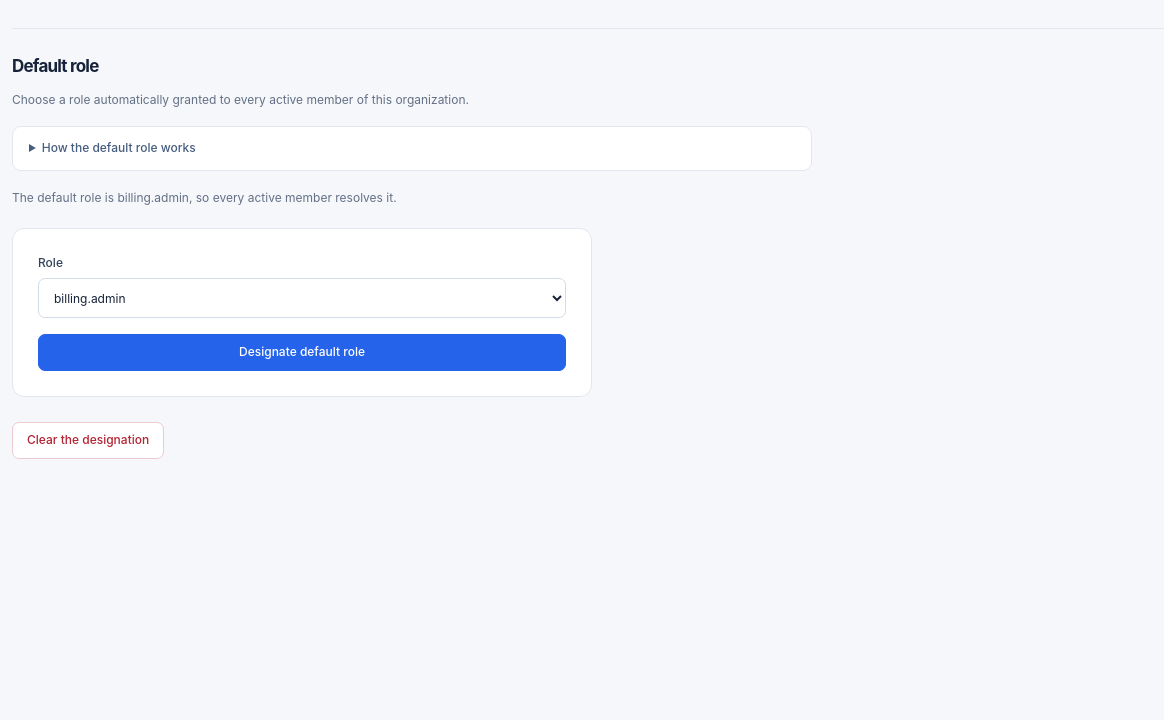
Test case: the default role of one organization › clears the designation only after an explicit confirm, and says nothing is deleted
This screenshot has width=1164, height=720.
Click the button "Clear the designation".
click(88, 441)  # box [12,422,164,459]
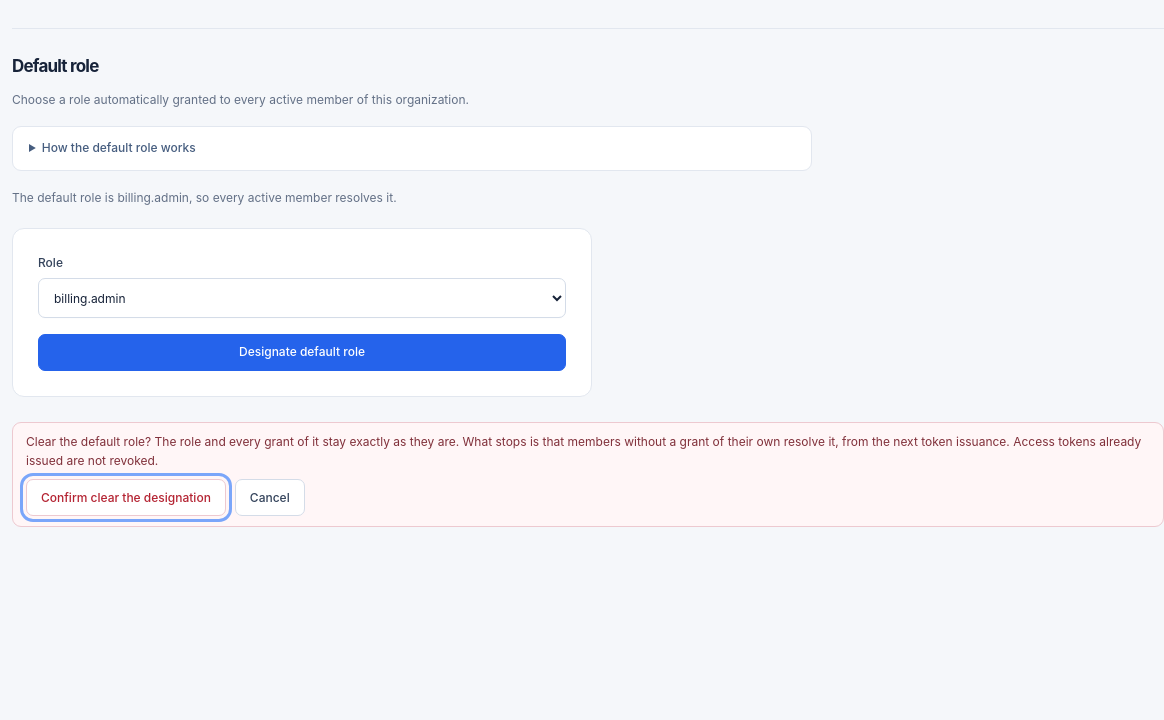
Expected: the text "The role and every grant of it stay exactly as they are" is shown, [26,434,1141,468]
Click the button "Confirm clear the designation".
click(126, 498)  # box [26,480,226,516]
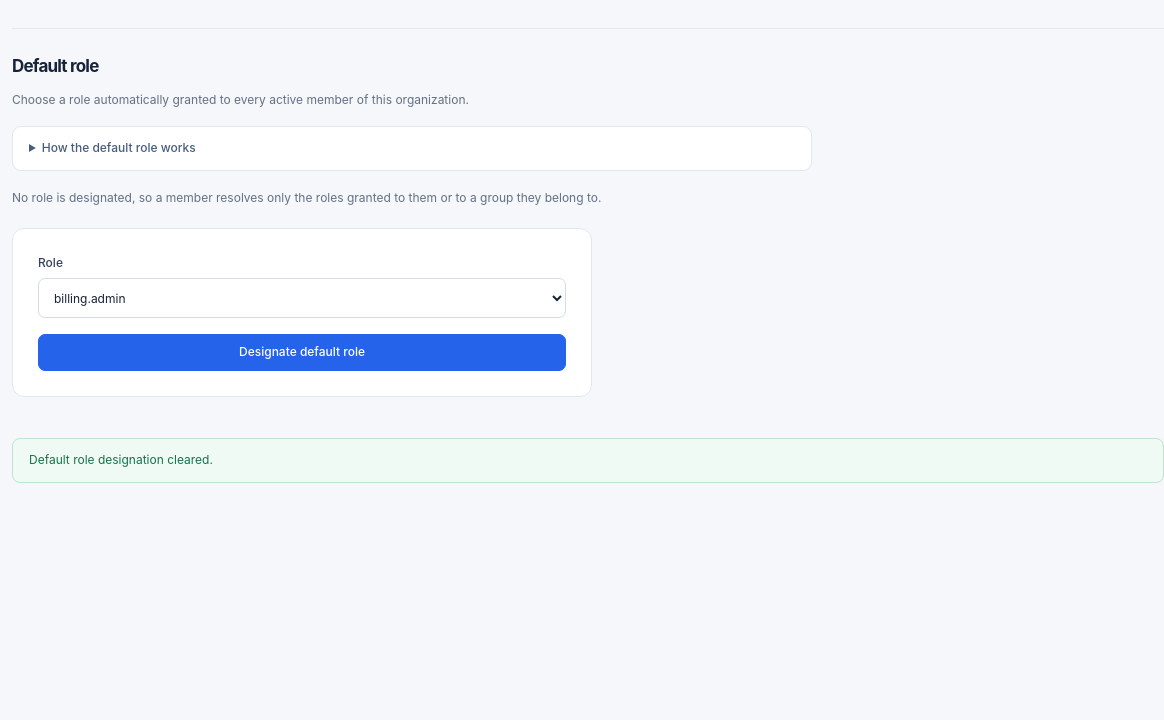
Expected: the text "Default role designation cleared." is shown, [12,438,1163,483]
Expected: the text "No role is designated" is shown, [12,190,601,205]
Expected: the text "The default role is billing.admin" is gone
